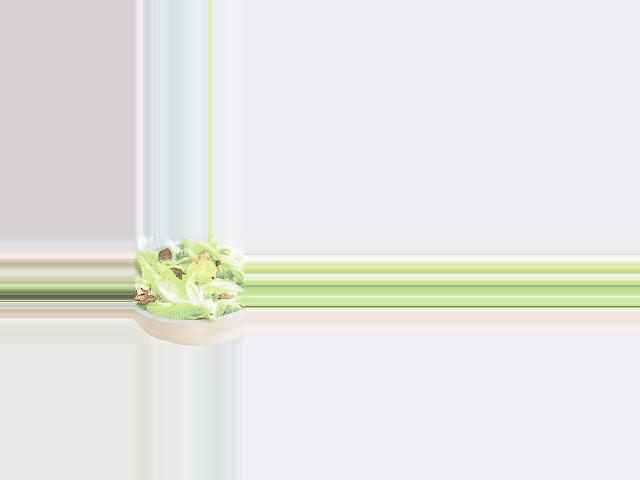lettuce: (144, 242, 238, 320)
